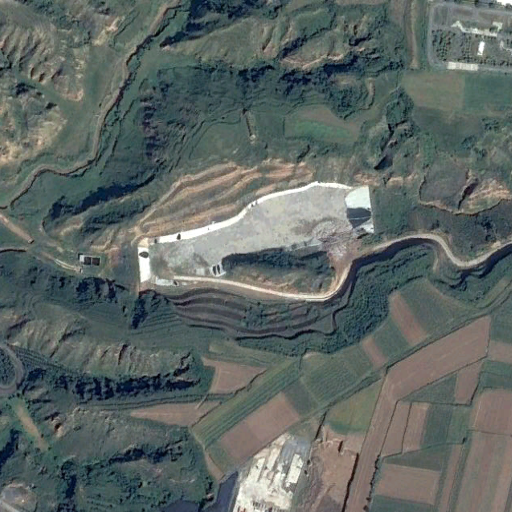lf: (137, 179, 377, 301)
